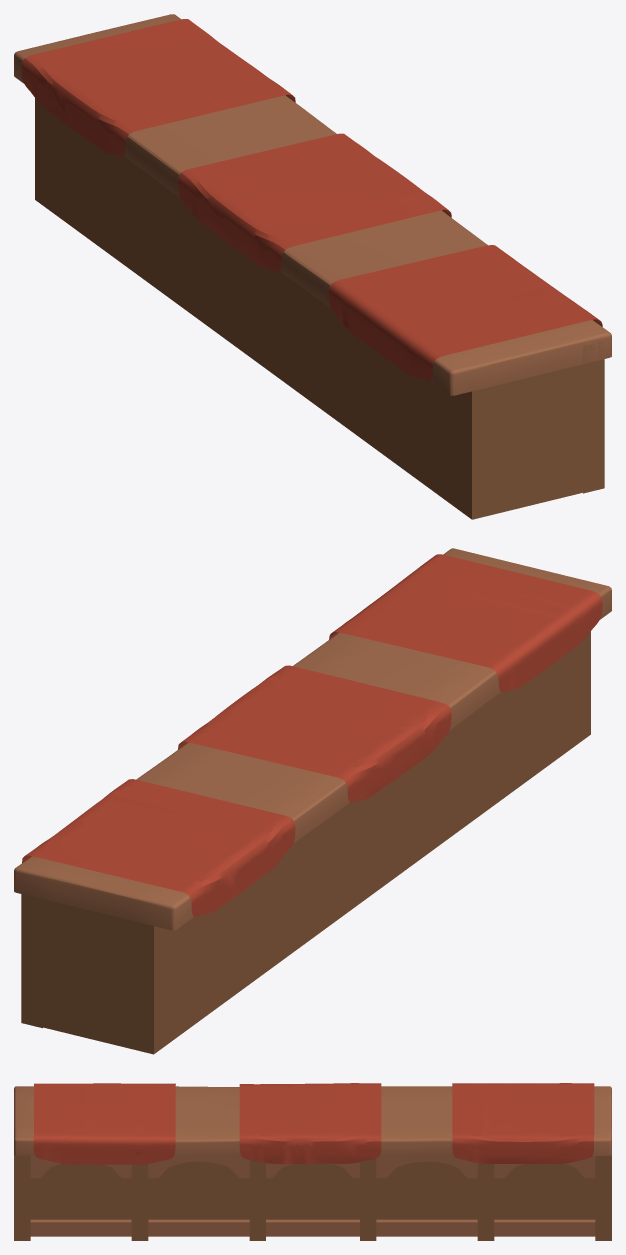
Rendered from SM_Counter.fbx.
3 renders of one model, top to bottom at view 1: azimuth 30°, elevation 25°; view 2: azimuth 150°, elevation 25°; view 3: azimuth 270°, elevation 25°, orthographic. The views are drawn at different scales.
Parts seen in each view (by area): view 1: LOW; view 2: LOW; view 3: LOW.
Boxes of the visible parts, x1,y1,x2,y2 form: LOW: [14, 14, 611, 519]; LOW: [14, 548, 611, 1054]; LOW: [14, 1083, 611, 1240].
Size of the model in its own units: 158 by 139 by 699.
